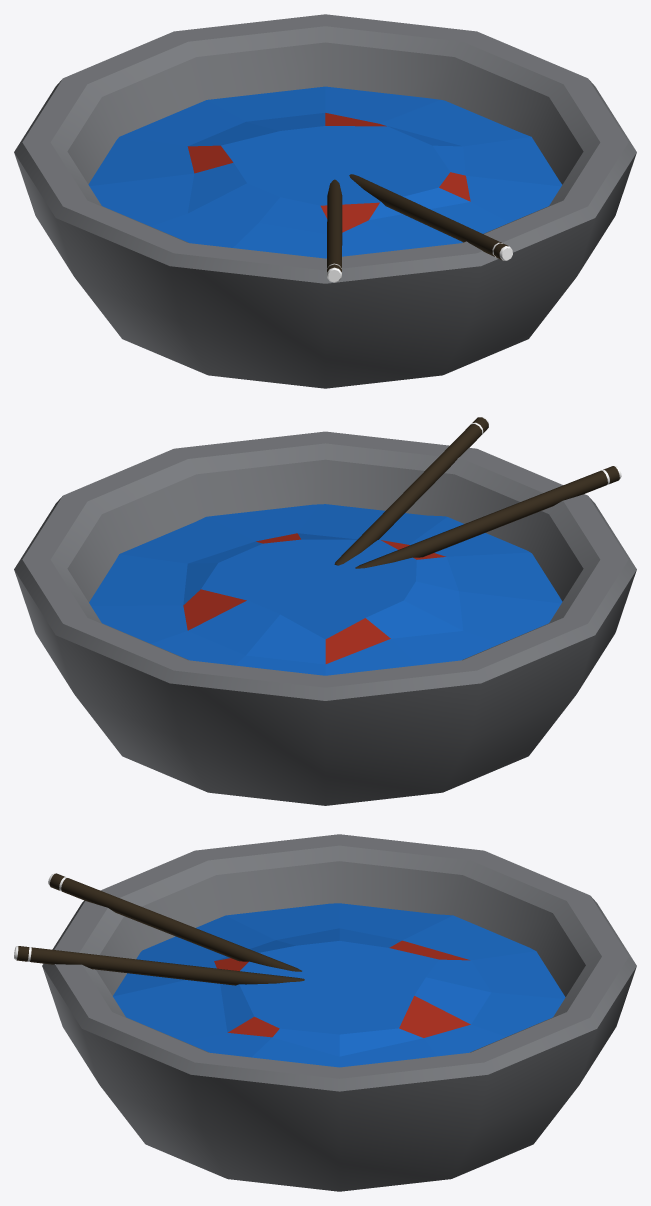
File: Soup_2.fbx
3 renders of one model, top to bottom at view 1: azimuth 30°, elevation 25°; view 2: azimuth 150°, elevation 25°; view 3: azimuth 270°, elevation 25°, orthographic. The views are drawn at different scales.
Visible parts, largest first — view 1: Soup_2; view 2: Soup_2; view 3: Soup_2.
Part boxes in pixels (x1,y1,x2,y2): Soup_2: [14, 14, 636, 388]; Soup_2: [14, 417, 636, 805]; Soup_2: [14, 834, 636, 1191].
Bounding box in the file's own units: 45.37 × 13.29 × 47.51.
